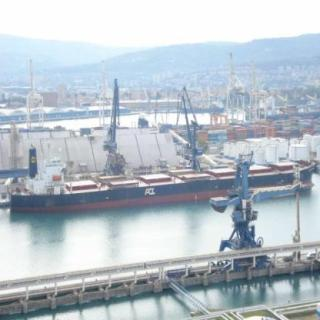Bulk Carrier: (2, 60, 231, 208)
